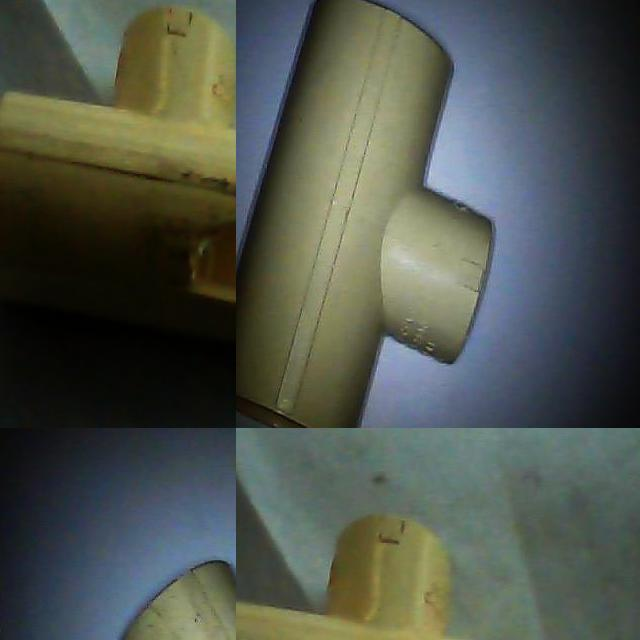Defective: (182, 170, 236, 331)
T Joint: (236, 0, 496, 428), (0, 5, 236, 351)
